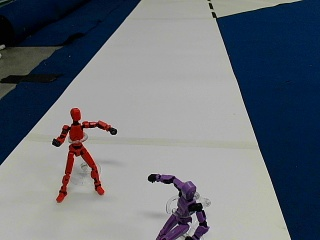pedestrian: (53, 107, 114, 201), (147, 172, 208, 237)
